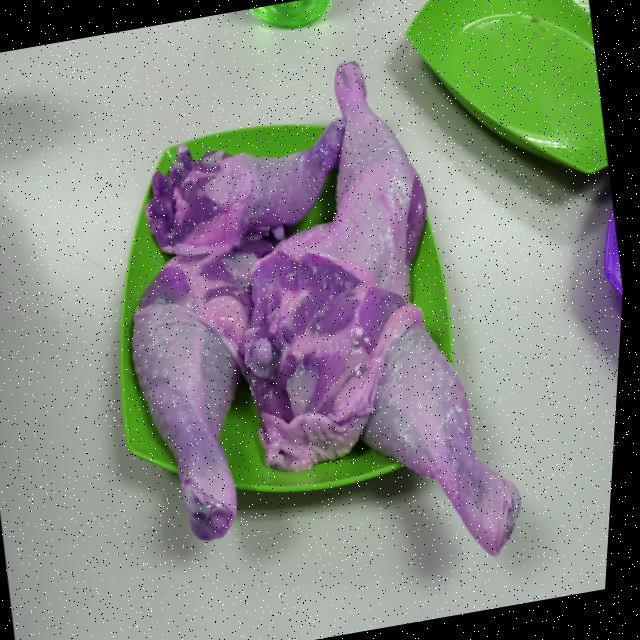quater: (278, 298, 522, 542), (130, 244, 296, 532), (298, 50, 436, 331), (168, 112, 348, 238)
